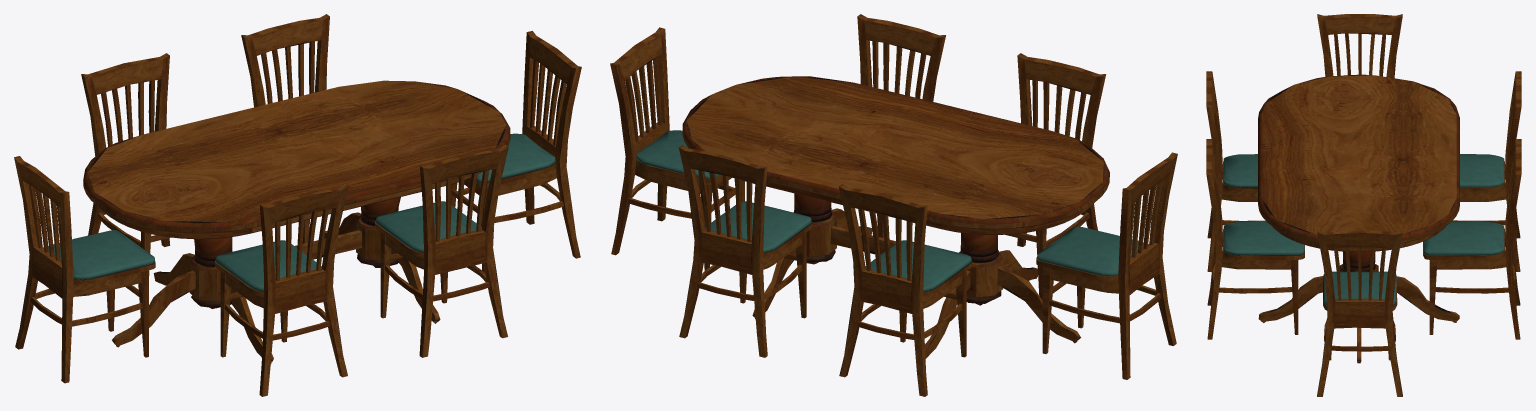
File: table1-var2.glb
3 renders of one model, left to right at view 1: azimuth 30°, elevation 25°; view 2: azimuth 150°, elevation 25°; view 3: azimuth 270°, elevation 25°, orthographic. The views are drawn at different scales.
Visible parts, largest first — view 1: Table_Table_0, Chair6_Seat_5, Chair6_Seat_4, Chair6_Seat_1, Chair6_Seat_0, Chair6_Seat_2, Chair6_Seat_3; view 2: Table_Table_0, Chair6_Seat_2, Chair6_Seat_3, Chair6_Seat_1, Chair6_Seat_0, Chair6_Seat_4, Chair6_Seat_5; view 3: Table_Table_0, Chair6_Seat_0, Chair6_Seat_3, Chair6_Seat_5, Chair6_Seat_2, Chair6_Seat_1, Chair6_Seat_4.
Boxes of the visible parts, box(x1,y1,x2,y2) form: Table_Table_0: box(83, 80, 510, 363); Chair6_Seat_5: box(375, 145, 508, 357); Chair6_Seat_4: box(215, 184, 348, 396); Chair6_Seat_1: box(14, 156, 155, 383); Chair6_Seat_0: box(451, 31, 581, 273); Chair6_Seat_2: box(81, 53, 170, 275); Chair6_Seat_3: box(241, 14, 361, 243); Table_Table_0: box(682, 76, 1109, 358); Chair6_Seat_2: box(838, 184, 972, 396); Chair6_Seat_3: box(678, 145, 812, 357); Chair6_Seat_1: box(1036, 152, 1177, 379); Chair6_Seat_0: box(610, 27, 744, 270); Chair6_Seat_4: box(1005, 53, 1106, 299); Chair6_Seat_5: box(857, 14, 945, 238); Table_Table_0: box(1258, 74, 1459, 363); Chair6_Seat_0: box(1317, 230, 1402, 396); Chair6_Seat_3: box(1423, 139, 1521, 339); Chair6_Seat_5: box(1206, 139, 1304, 339); Chair6_Seat_2: box(1452, 71, 1521, 271); Chair6_Seat_1: box(1317, 14, 1402, 78); Chair6_Seat_4: box(1206, 71, 1265, 271).
Size of the model in its own units: 2.61 by 0.9144 by 1.58.
Materials: 3 (3 with a texture image).
